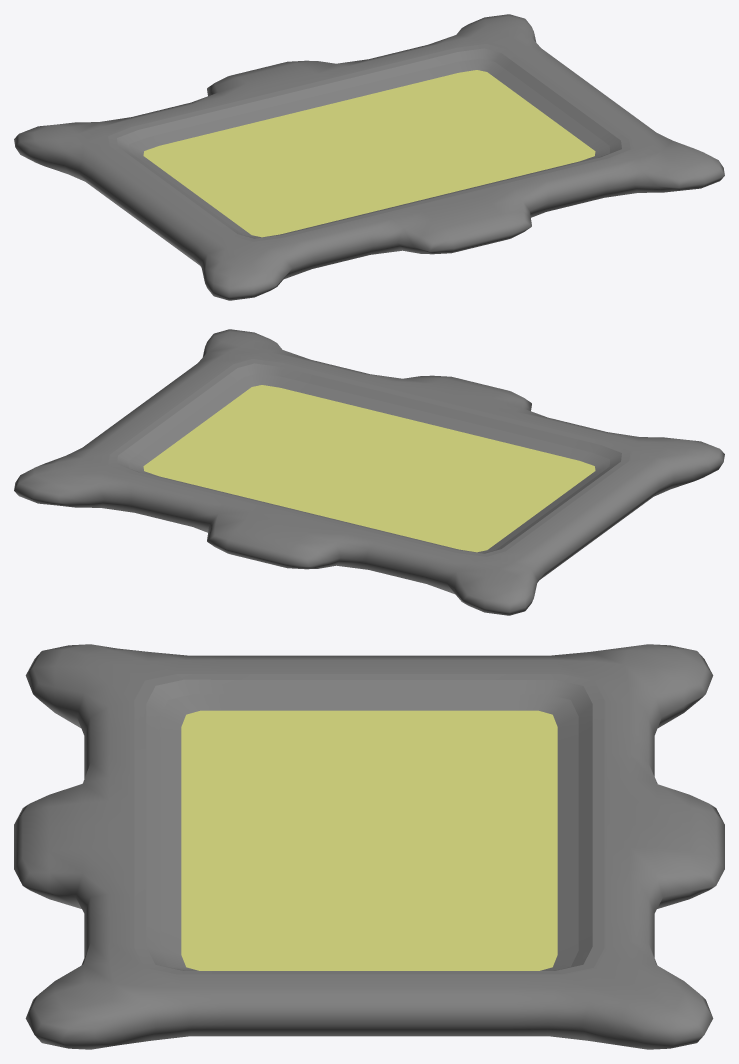
Rendered from miroir.fbx.
3 renders of one model, top to bottom at view 1: azimuth 30°, elevation 25°; view 2: azimuth 150°, elevation 25°; view 3: azimuth 270°, elevation 25°, orthographic. The views are drawn at different scales.
Visible parts, largest first — view 1: Box001; view 2: Box001; view 3: Box001.
Part boxes in pixels (x1,y1,x2,y2): Box001: (14, 14, 724, 300); Box001: (14, 329, 724, 615); Box001: (14, 644, 724, 1049).
Bounding box in the file's own units: 12.01 × 0.6586 × 9.32.
